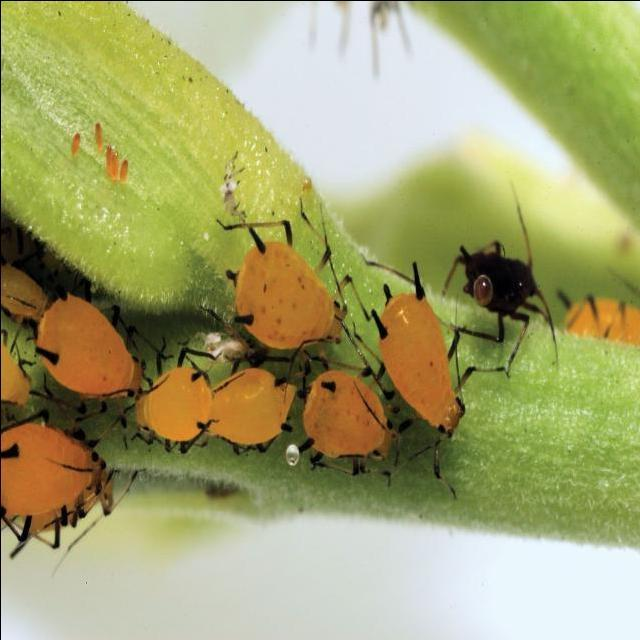aphid: (371, 261, 462, 435), (0, 422, 112, 545), (234, 234, 345, 349), (298, 369, 395, 483), (35, 292, 140, 396), (209, 367, 295, 444), (135, 367, 211, 440), (434, 442, 441, 477)
